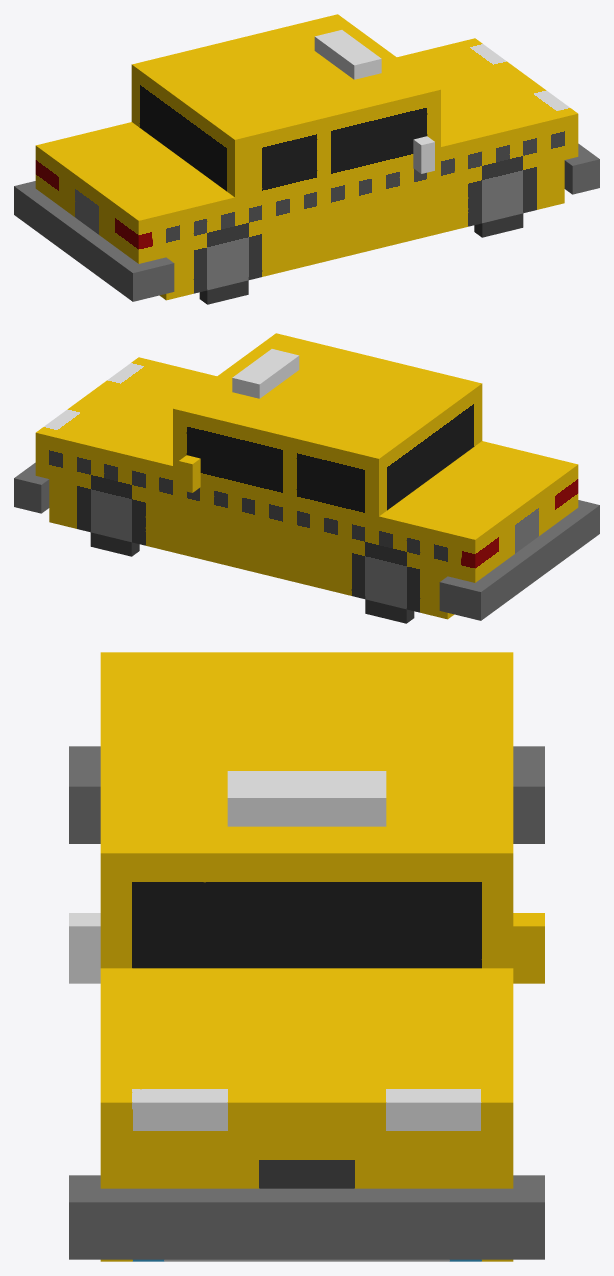
The model's file is veh_cab1.fbx.
3 renders of one model, top to bottom at view 1: azimuth 30°, elevation 25°; view 2: azimuth 150°, elevation 25°; view 3: azimuth 270°, elevation 25°, orthographic. The views are drawn at different scales.
Visible parts, largest first — view 1: veh_cab1; view 2: veh_cab1; view 3: veh_cab1.
Part boxes in pixels (left/top/right/bottom): veh_cab1: left=14, top=14, right=599, bottom=304; veh_cab1: left=14, top=333, right=599, bottom=623; veh_cab1: left=69, top=652, right=544, bottom=1261.
Bounding box in the file's own units: 3.4 × 1.5 × 1.2.
1 material, 1 textured.
